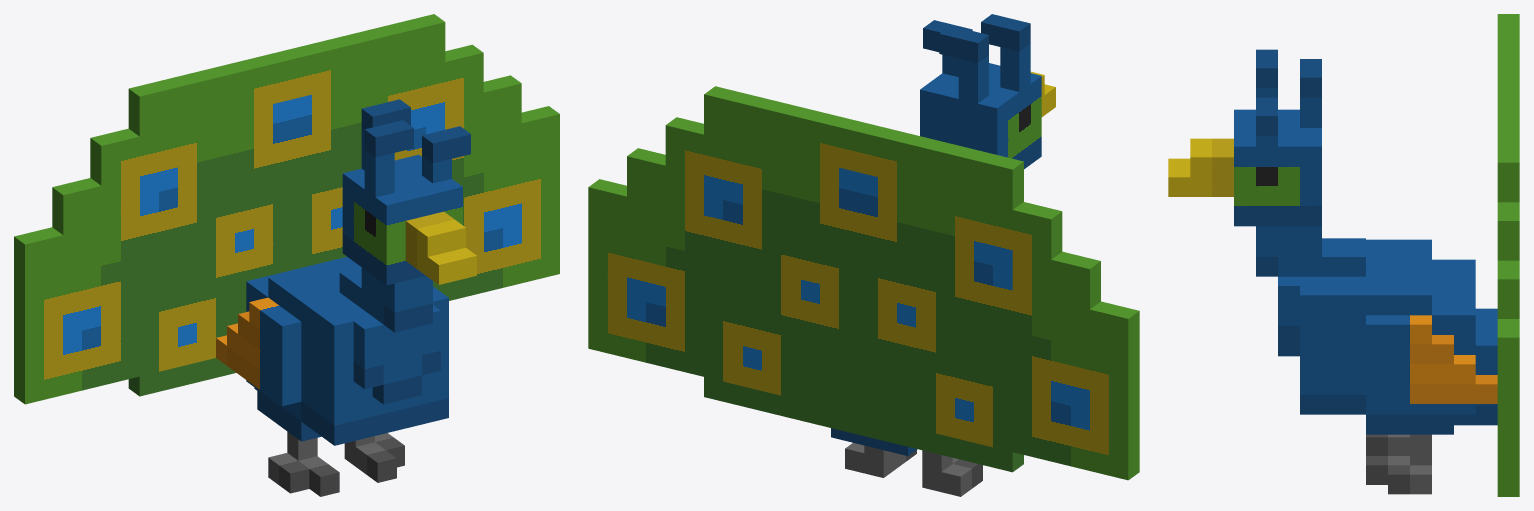
File: animals-6-toucan.fbx
The picture shows the model from 3 angles, left to right: view 1: azimuth 30°, elevation 25°; view 2: azimuth 150°, elevation 25°; view 3: azimuth 270°, elevation 25°; orthographic projection.
Visible parts, largest first — view 1: animals-6-toucan.001; view 2: animals-6-toucan.001; view 3: animals-6-toucan.001.
Part boxes in pixels (left/top/right/bottom): animals-6-toucan.001: left=14, top=14, right=559, bottom=496; animals-6-toucan.001: left=588, top=14, right=1139, bottom=496; animals-6-toucan.001: left=1168, top=14, right=1519, bottom=496.
Bounding box in the file's own units: 2.8 × 2 × 1.6.
Materials: 1 (1 with a texture image).
